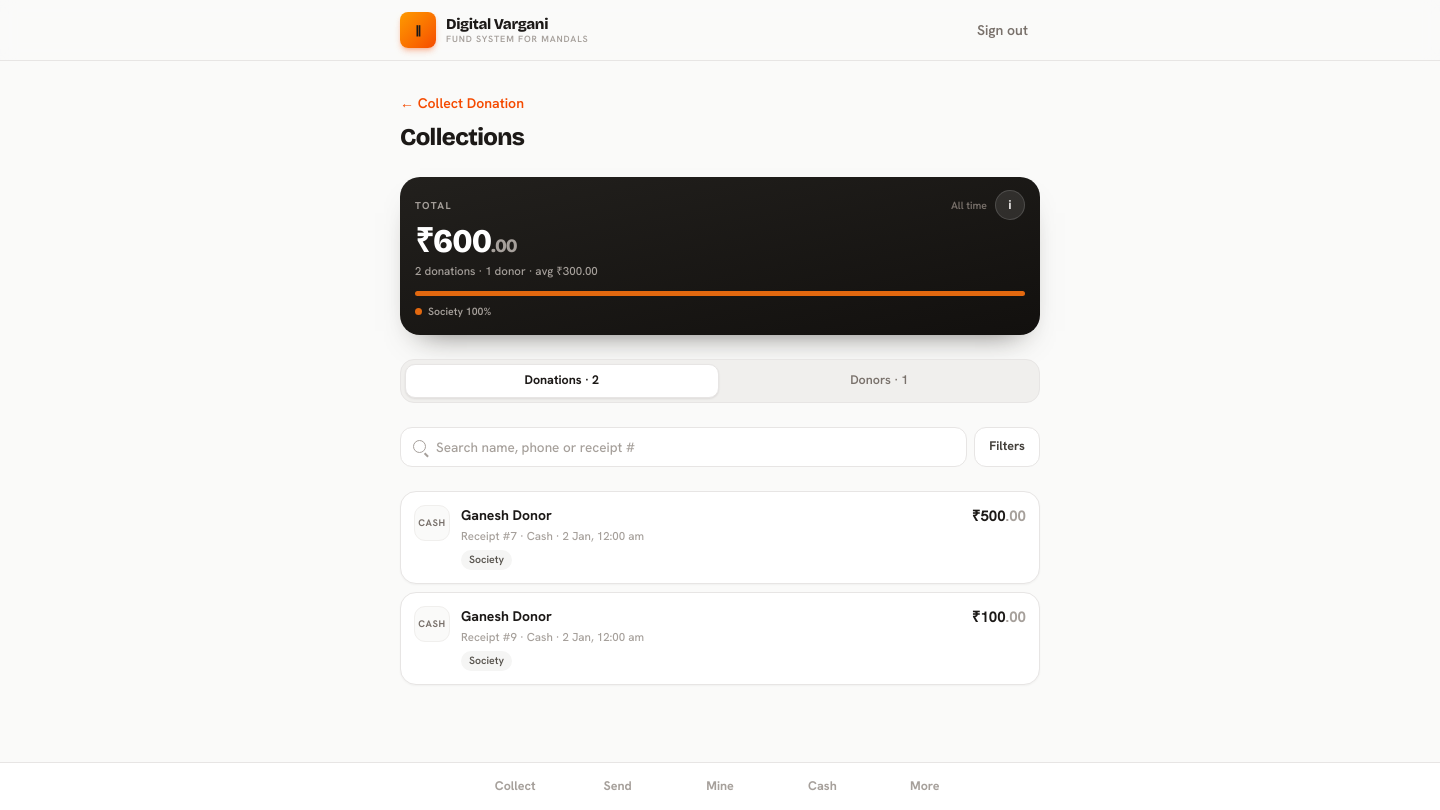
Scenario: CollectionsContent — the Collections & donors tab › donors view › opens a donor sheet with their total, contact and history
Expected: the text "Ganesh Donor" is shown 2 times, [461, 506, 552, 524]; [461, 607, 552, 625]
Click the button "Donors · 1": [879, 381] box [724, 364, 1035, 398]
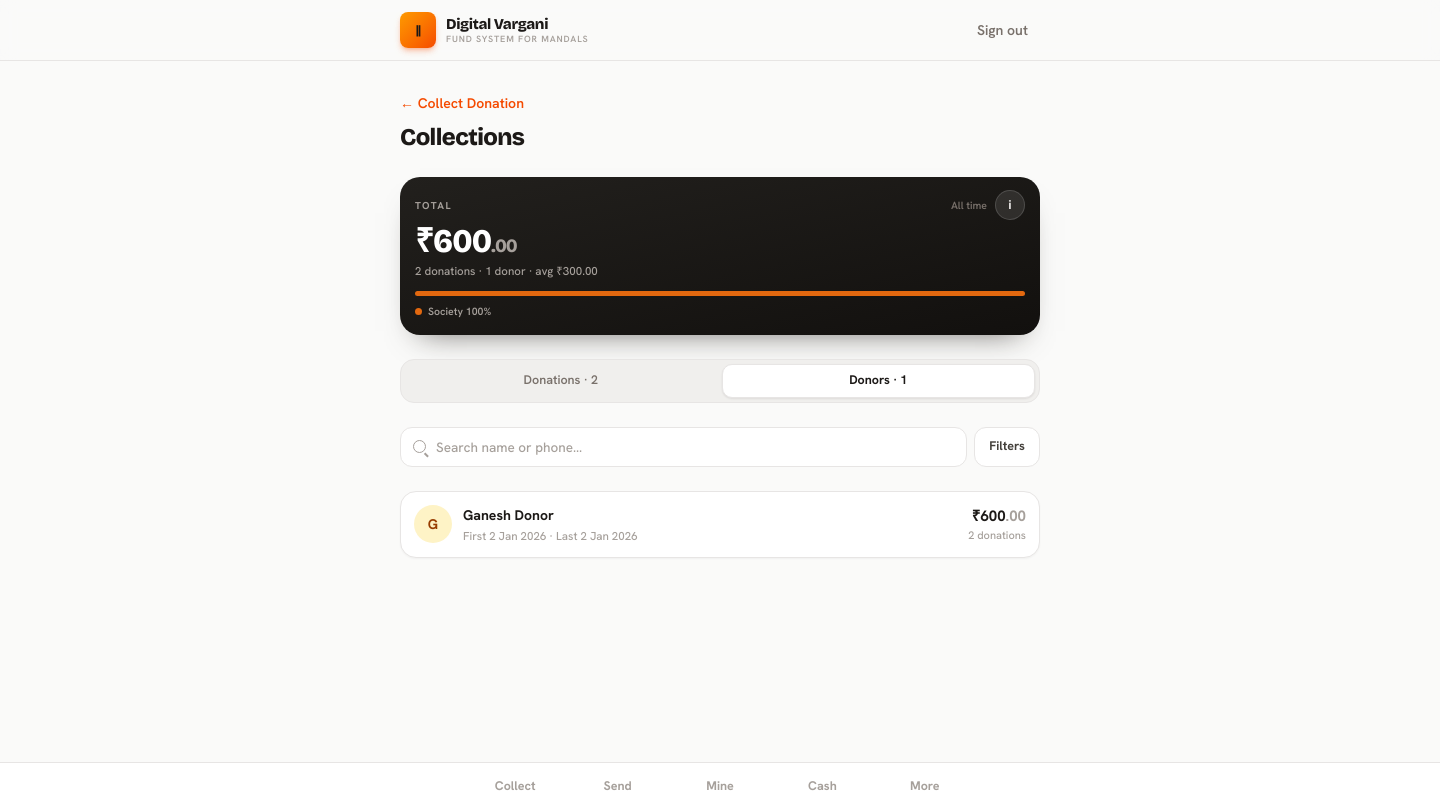
Click the button "First ": [433, 524] box [400, 491, 1040, 558]
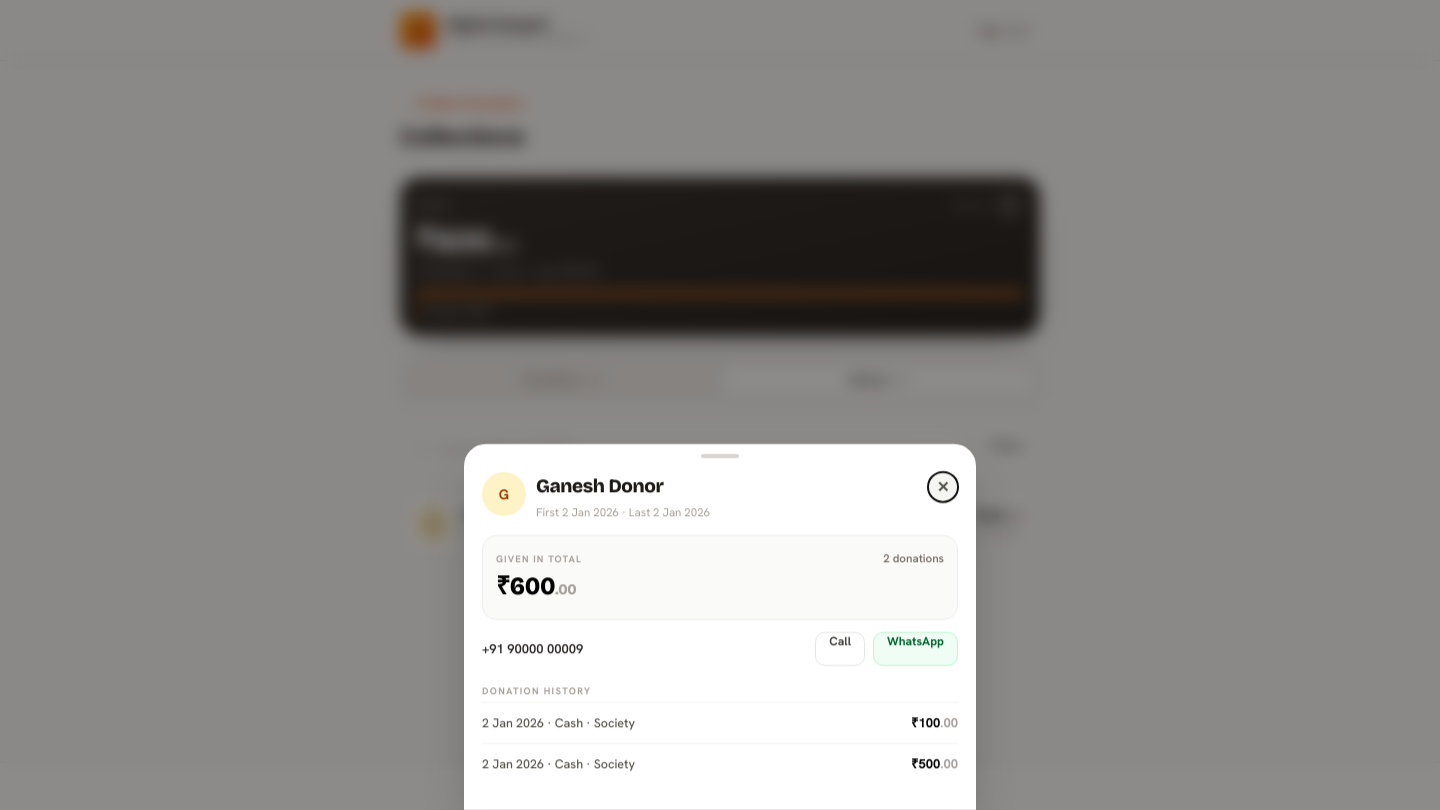
Now the text "Given in total" is shown, box [496, 552, 582, 566]
Now the text "Donation history" is shown, box [482, 684, 591, 697]
Now the text "2 Jan 2026 · Cash · Society" is shown 2 times, box [482, 714, 635, 732]; [482, 755, 635, 772]
